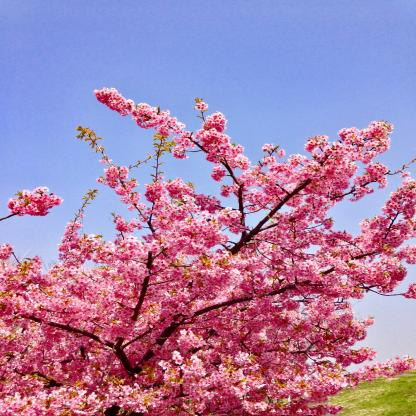YaeSakura: (0, 84, 415, 416)
